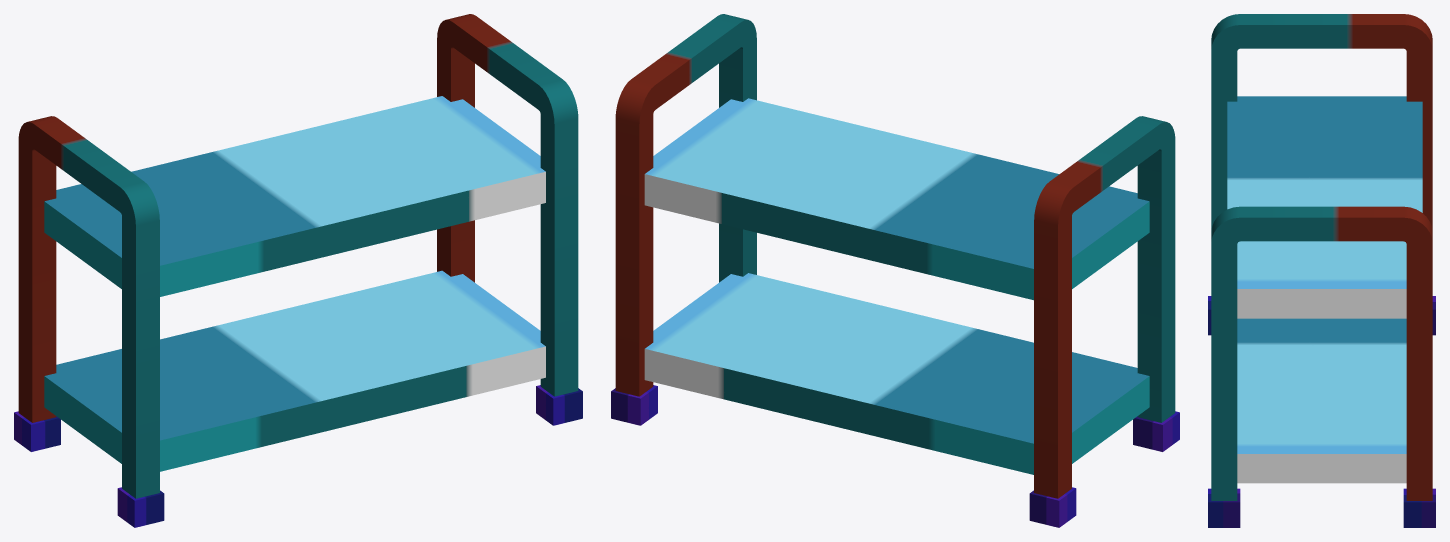
Rendered from Return_Storage_Rack.fbx.
The picture shows the model from 3 angles, left to right: view 1: azimuth 30°, elevation 25°; view 2: azimuth 150°, elevation 25°; view 3: azimuth 270°, elevation 25°; orthographic projection. The views are drawn at different scales.
Parts seen in each view (by area): view 1: Return_Storage_Rack; view 2: Return_Storage_Rack; view 3: Return_Storage_Rack.
Boxes of the visible parts, <box> form: Return_Storage_Rack: <box>14,14,582,527</box>; Return_Storage_Rack: <box>611,14,1179,527</box>; Return_Storage_Rack: <box>1208,14,1435,527</box>.
Size of the model in its own units: 150 by 105 by 69.93.
